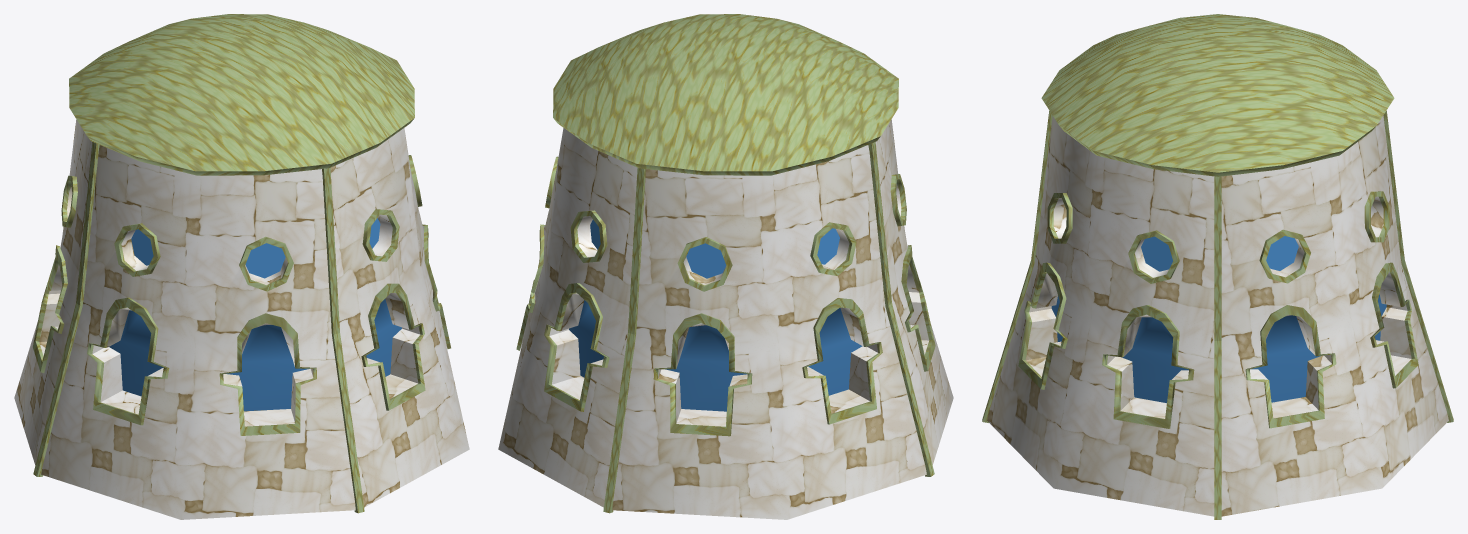
The model's file is CastleTower.fbx.
3 renders of one model, left to right at view 1: azimuth 30°, elevation 25°; view 2: azimuth 150°, elevation 25°; view 3: azimuth 270°, elevation 25°, orthographic.
Parts seen in each view (by area): view 1: Cylinder; view 2: Cylinder; view 3: Cylinder.
Part boxes in pixels (box(x1,y1,x2,y2)): Cylinder: box(14, 14, 469, 519); Cylinder: box(498, 14, 953, 519); Cylinder: box(982, 14, 1453, 519).
Size of the model in its own units: 12.98 by 11.58 by 12.98.
